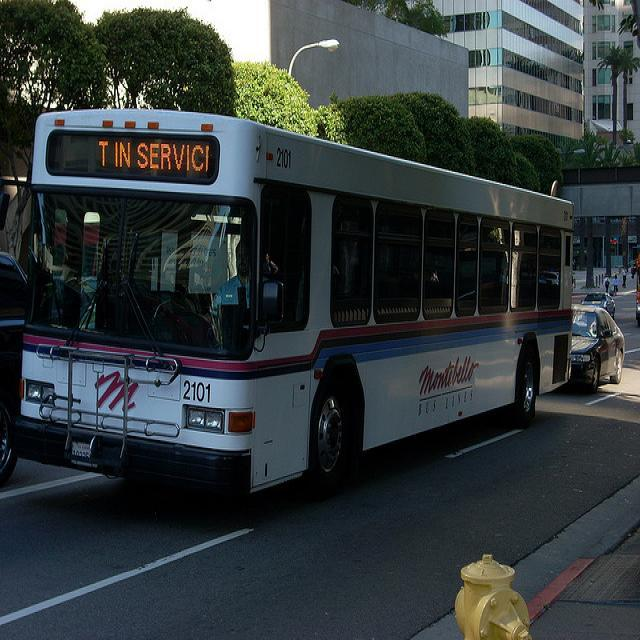fire_hydrant: (453, 553, 534, 640)
